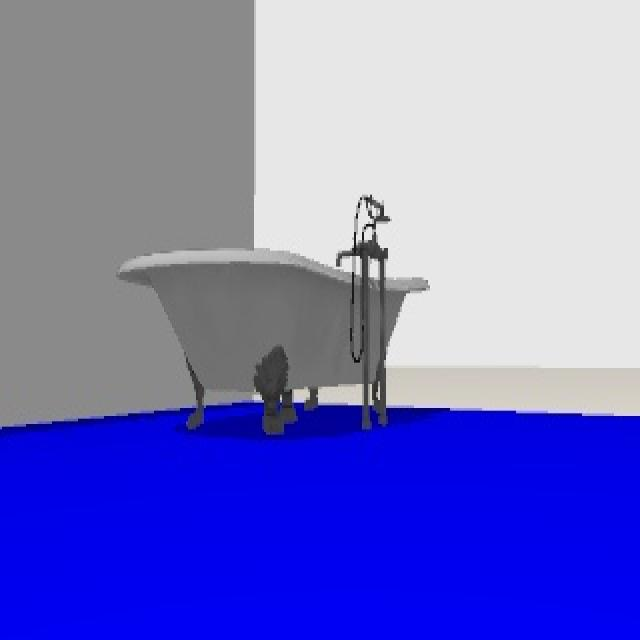bathtub: (122, 201, 437, 429)
